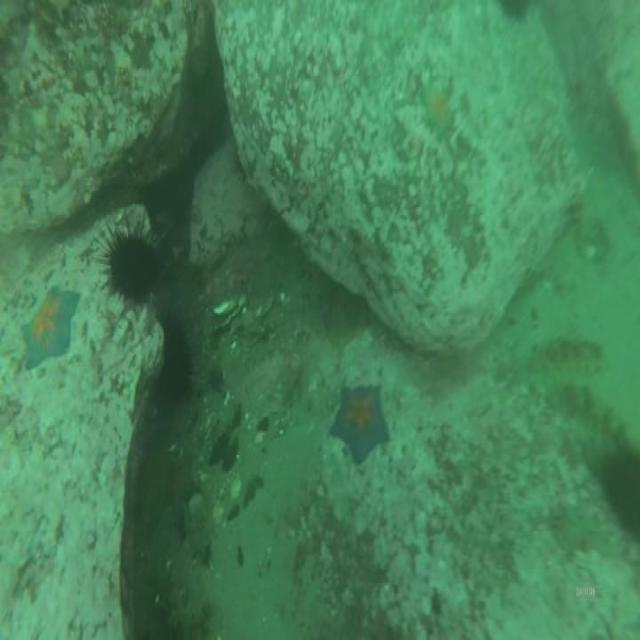echinus: (106, 229, 159, 300), (602, 455, 640, 539), (163, 328, 193, 404)
holothurian: (552, 381, 632, 442), (534, 337, 606, 378), (571, 186, 591, 246)
starfish: (20, 288, 81, 368), (332, 379, 389, 462), (422, 87, 452, 142)
